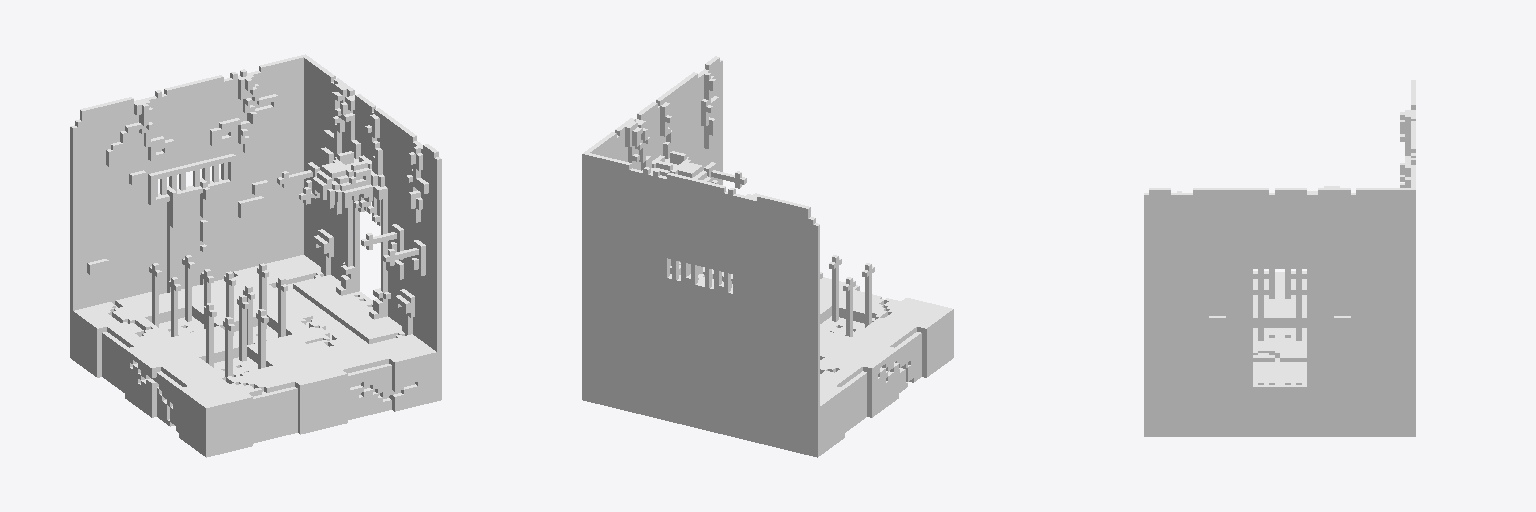
Rendered from TrappedRoom.obj.
The picture shows the model from 3 angles: view 1: azimuth 30°, elevation 25°; view 2: azimuth 150°, elevation 25°; view 3: azimuth 270°, elevation 25°; orthographic projection.
Visible parts, largest first — view 1: TrappedRoom; view 2: TrappedRoom; view 3: TrappedRoom.
Part boxes in pixels (left/top/right/bottom): TrappedRoom: left=70, top=54, right=441, bottom=457; TrappedRoom: left=582, top=56, right=953, bottom=457; TrappedRoom: left=1144, top=80, right=1415, bottom=436.
Bounding box in the file's own units: 5 × 5 × 5.